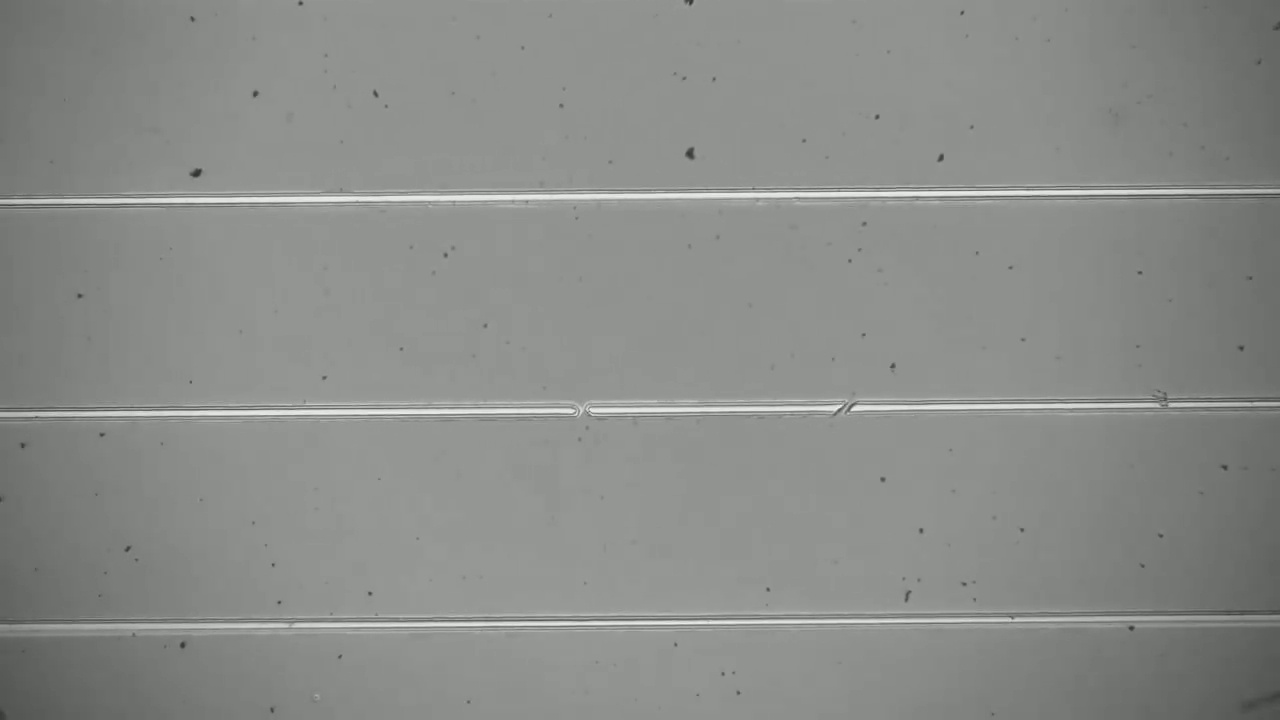open: (563, 391, 605, 430), (822, 390, 867, 425)
stains_enbedded: (1139, 380, 1184, 421)
